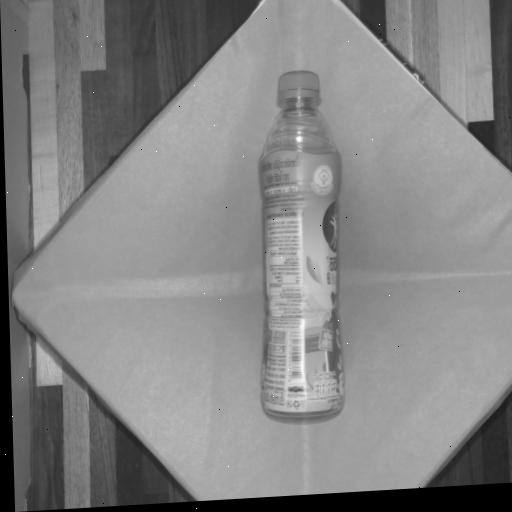bottle: (259, 71, 342, 416)
